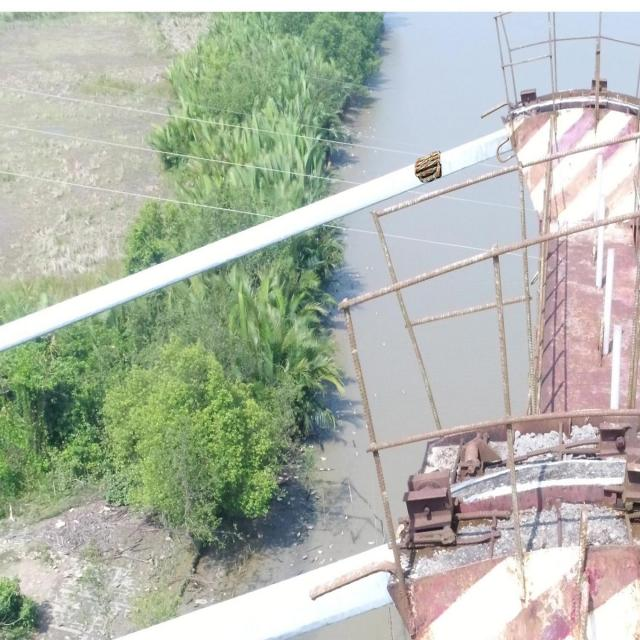corrosion: (415, 151, 443, 183)
